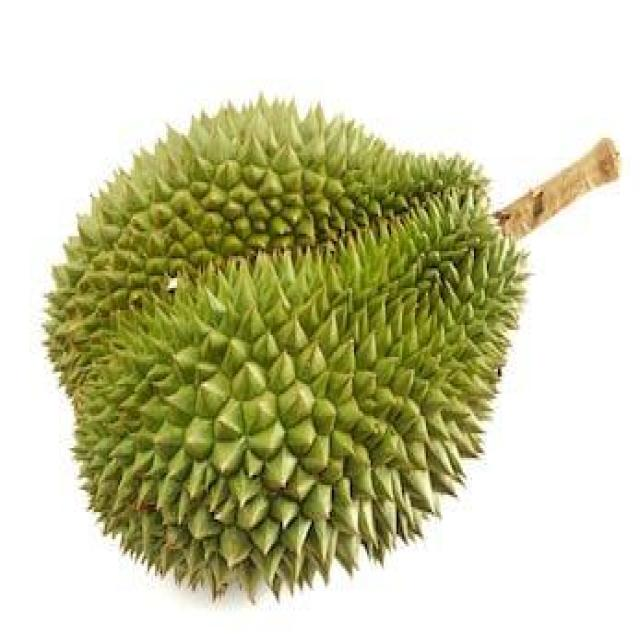immature: (41, 92, 532, 604)
